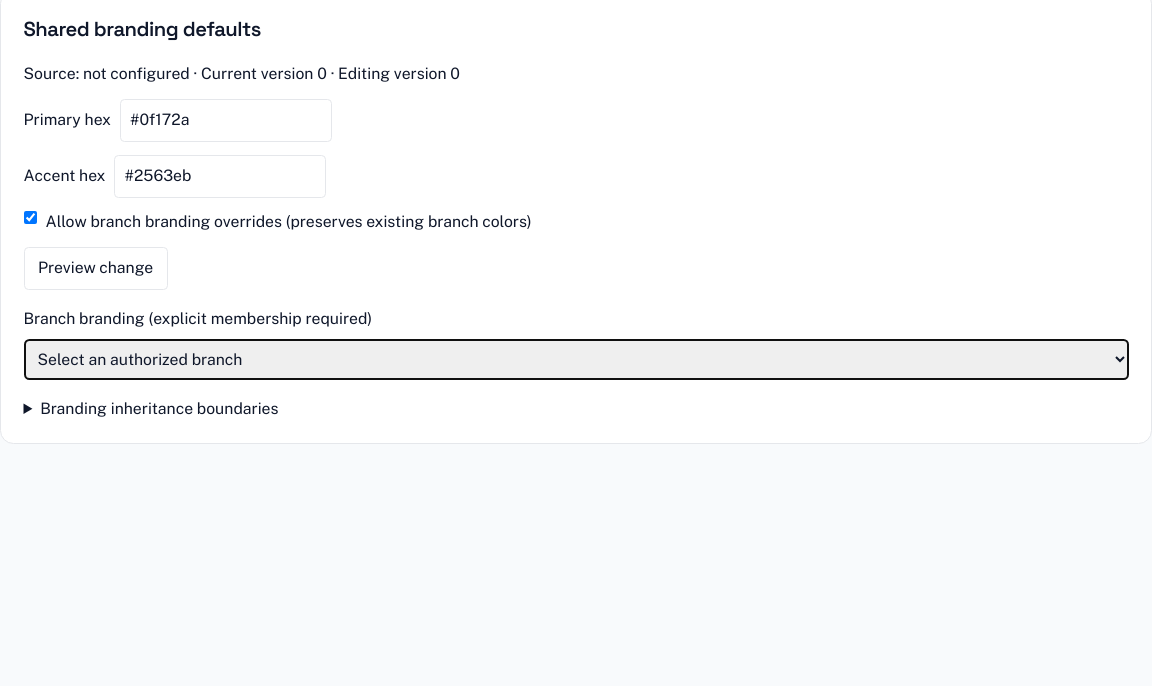
Test: reviews a versioned branch reset before saving and does not activate a workspace
This screenshot has width=1152, height=686.
Select "Headquarters" in the dropdown labelled "Branch branding (explicit membership required)" at (576, 360), box [24,339,1128,380]
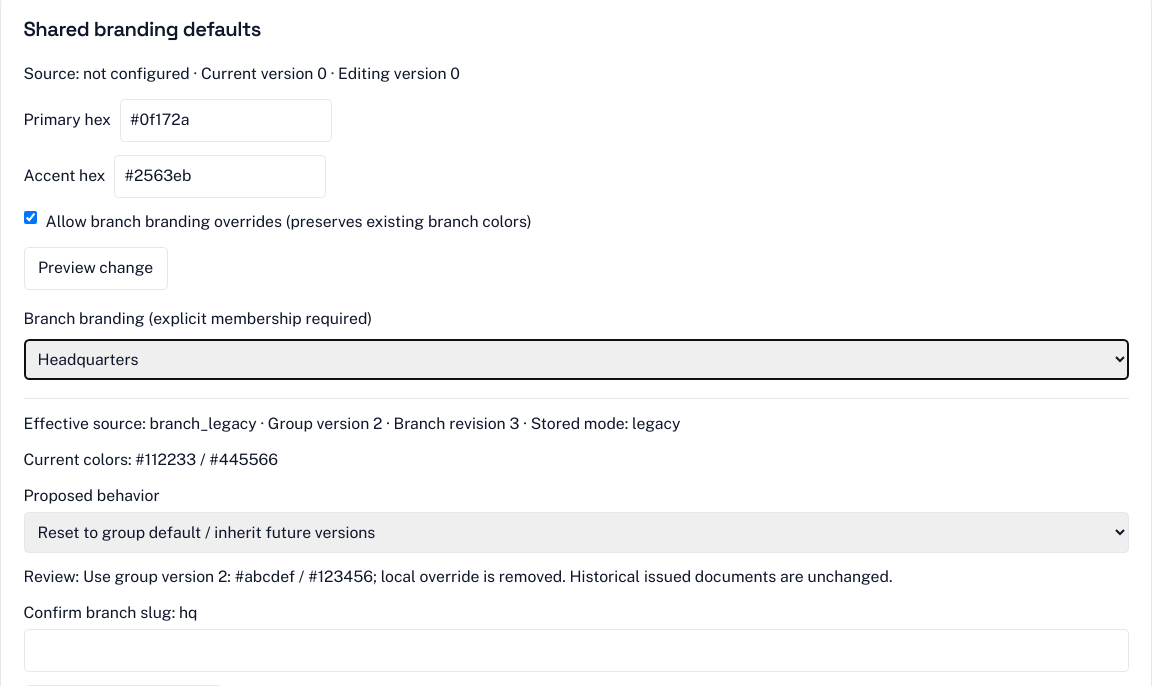
Check: the text "Use group version 2: #abcdef" is shown, box [83,567,566,586]
Type "hq" into the field labelled "Confirm branch slug: hq" at (576, 650), box [24,629,1128,672]
(page scrolled)
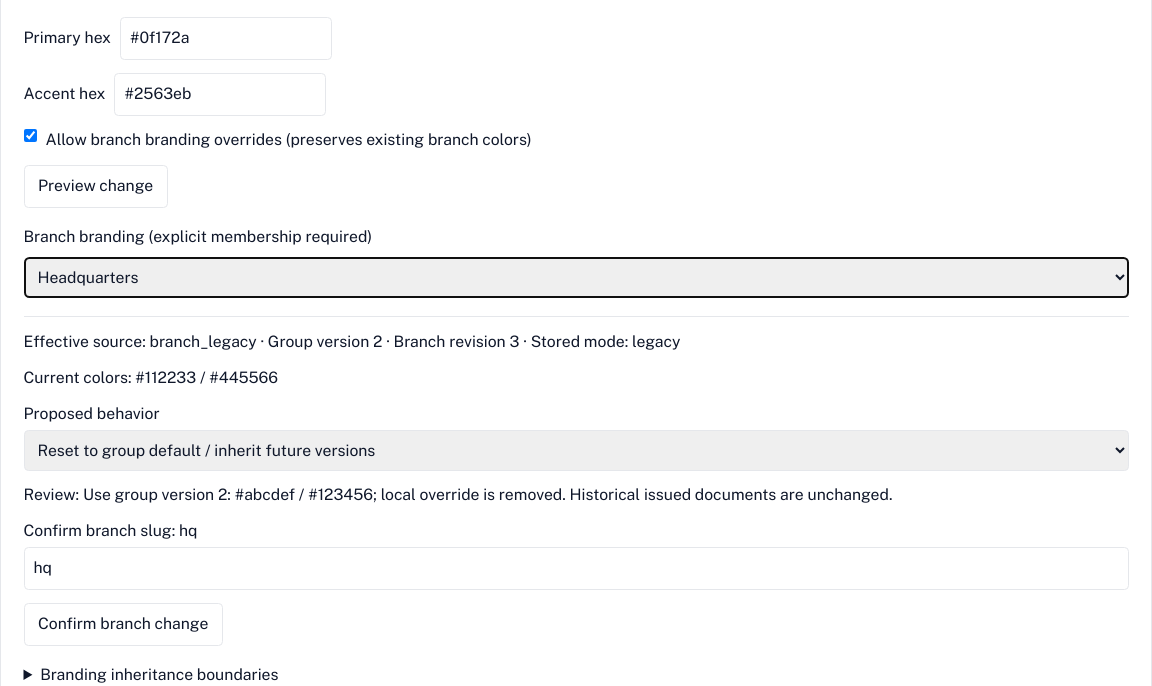
Click the button "Confirm branch change" at (123, 624), box [24,603,223,646]
(page scrolled)
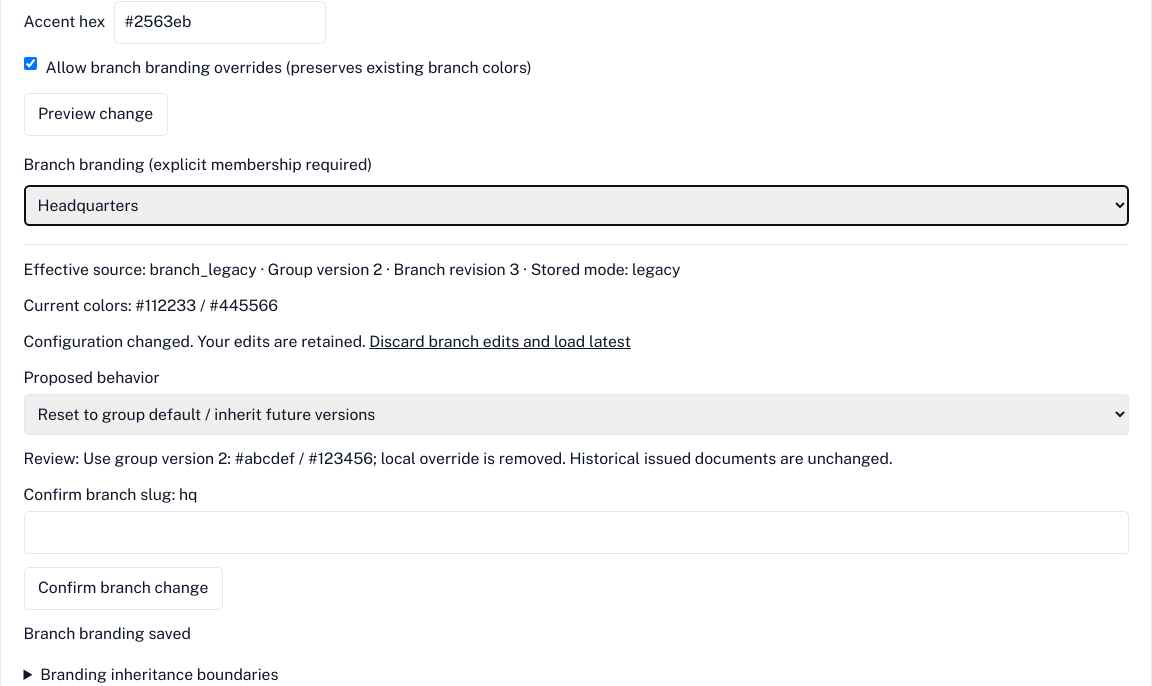
Check: the text "Branch branding saved" is shown, box [24,624,191,643]
